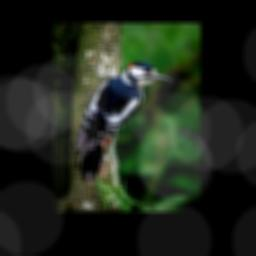Woodpecker: (76, 61, 173, 183)
